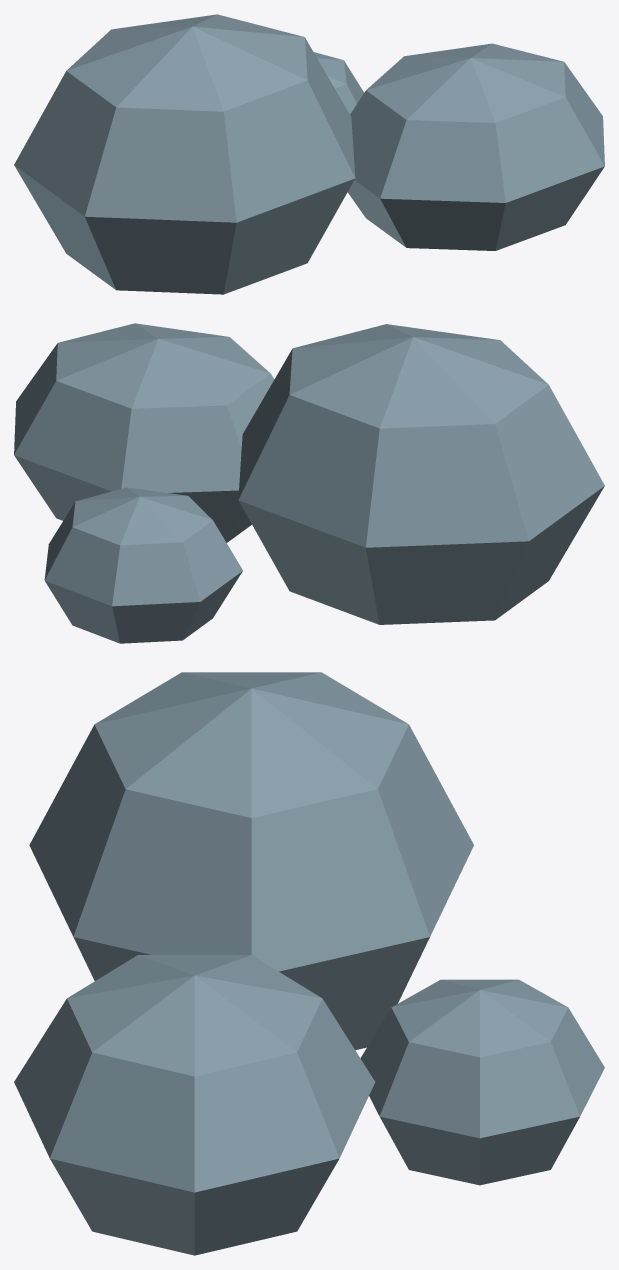
File: rocks.glb
3 views of the same model, one above another, from view 1: azimuth 30°, elevation 25°; view 2: azimuth 150°, elevation 25°; view 3: azimuth 270°, elevation 25° (orthographic). The views are drawn at different scales.
Visible parts, largest first — view 1: rock (×3); view 2: rock (×3); view 3: rock (×3).
Part boxes in pixels (x1=…): rock (×3): x1=14, y1=14, x2=604, y2=294; rock (×3): x1=14, y1=323, x2=604, y2=643; rock (×3): x1=14, y1=672, x2=604, y2=1255.
Bounding box in the file's own units: 1.51 × 0.705 × 1.04.
